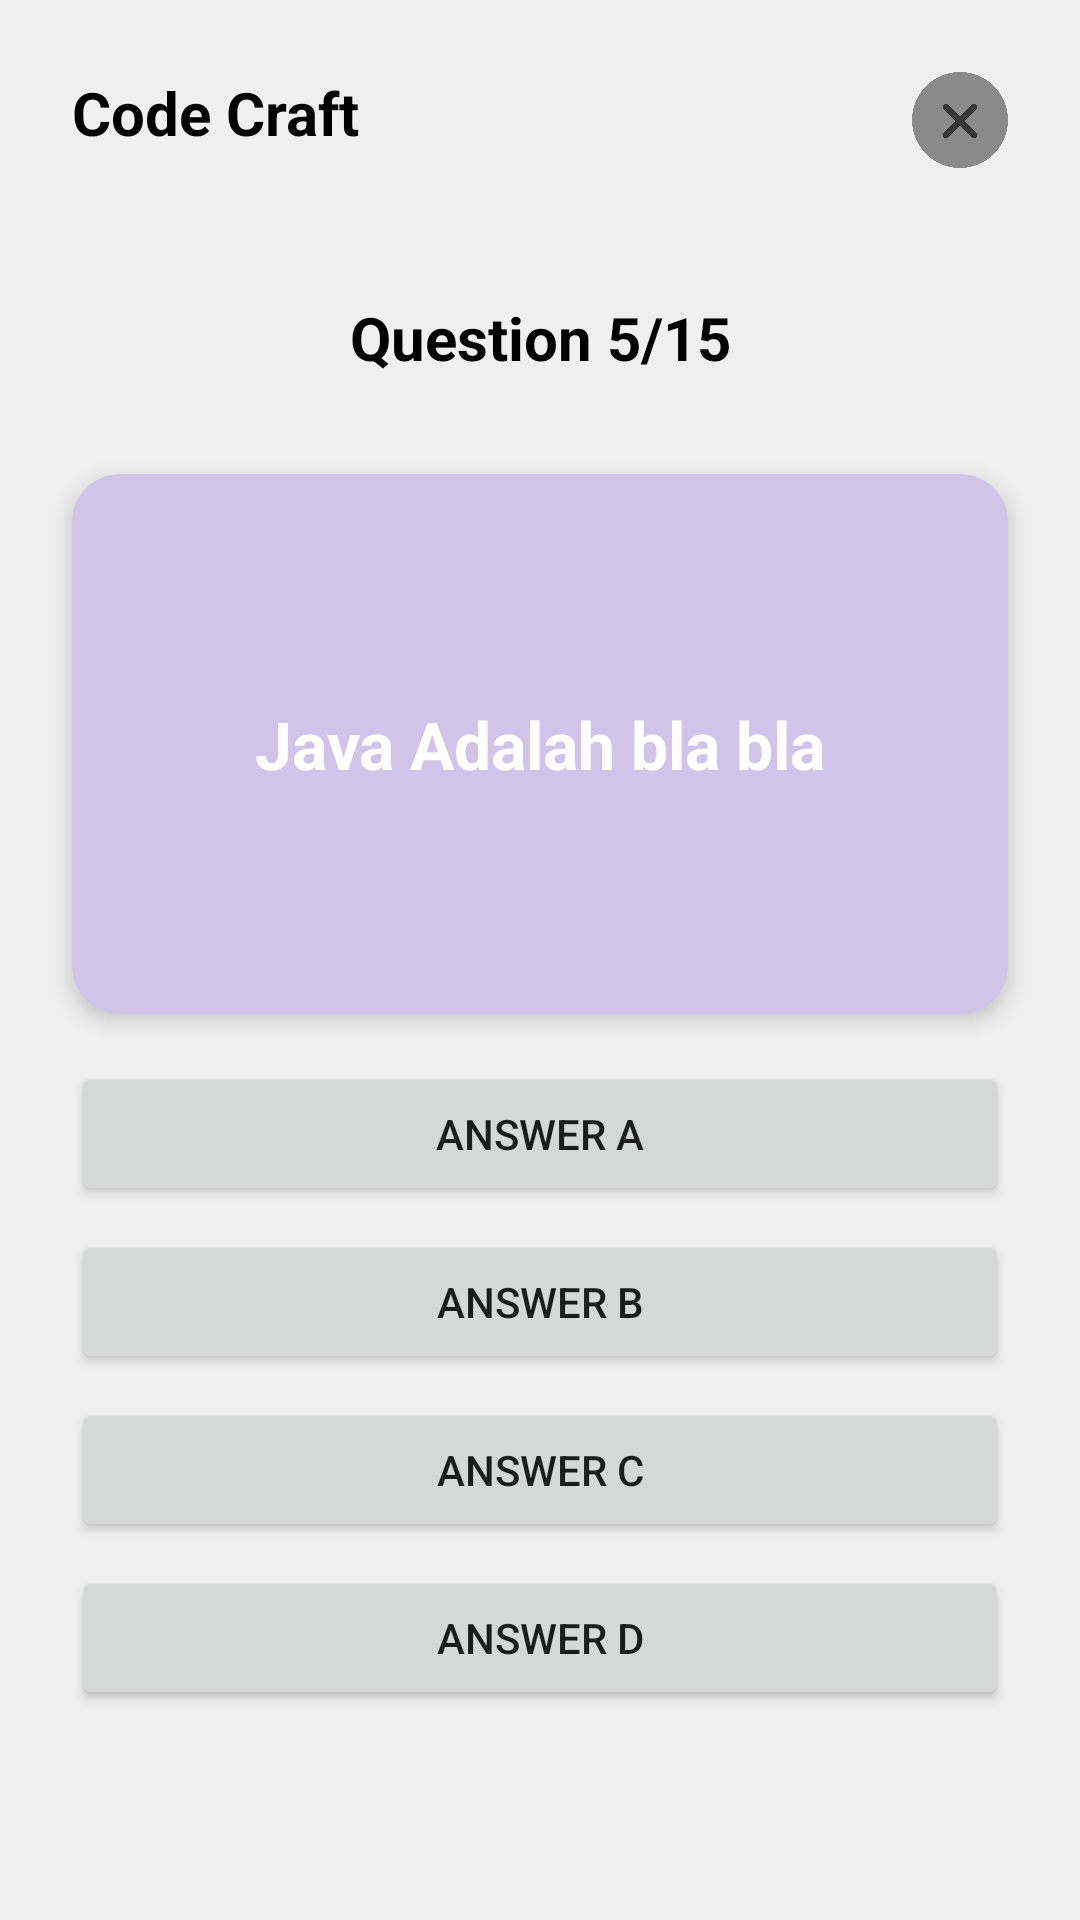

Named icons in this screenshot (1080 x 1920) and their centers, [x,y]:
Close: [960,120]
